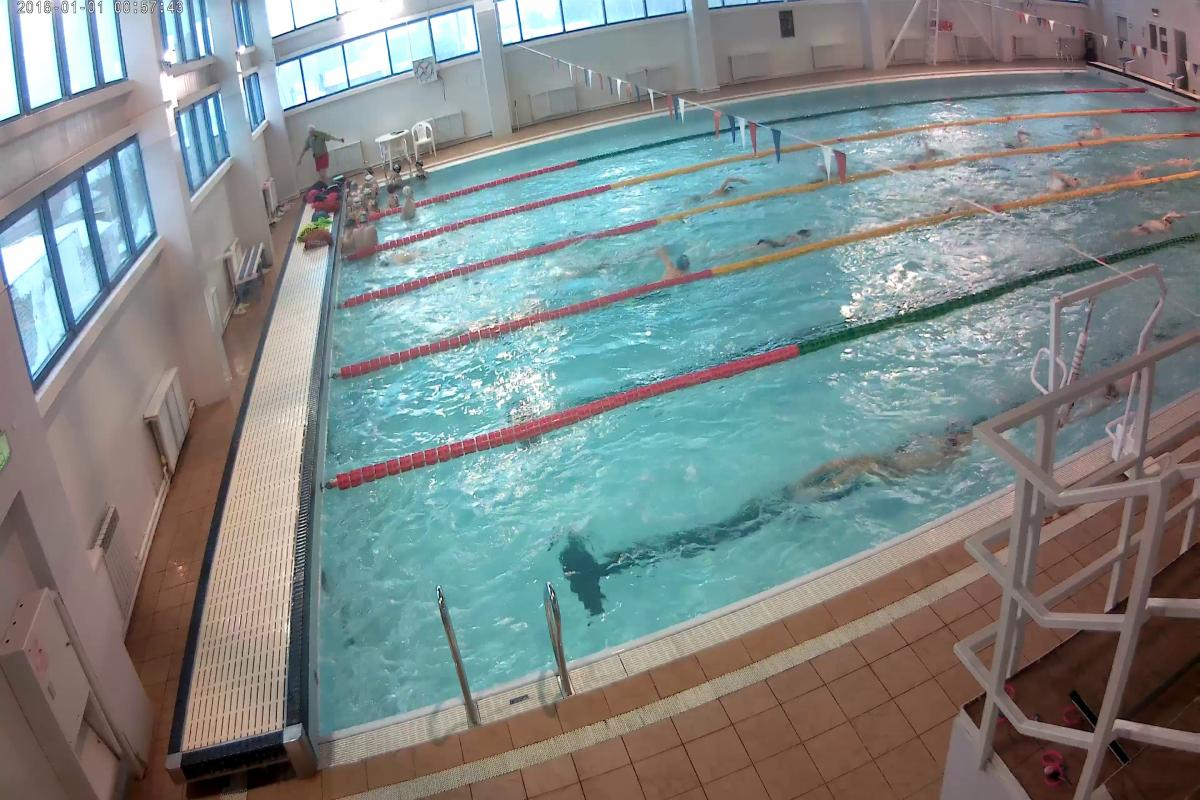swimmer: (802, 411, 964, 505), (739, 218, 819, 258), (1130, 200, 1186, 242), (696, 170, 748, 201), (653, 245, 694, 280), (1112, 154, 1151, 184), (1049, 168, 1080, 192), (1160, 148, 1192, 168), (1012, 127, 1040, 148)
